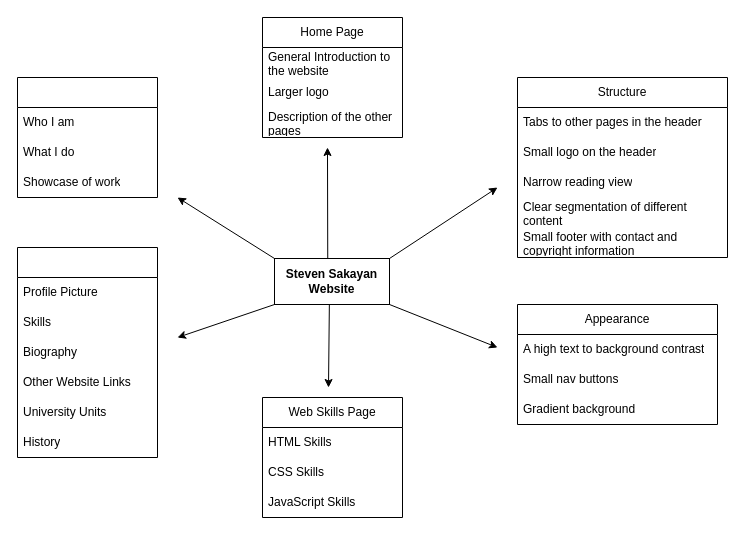
Image size: 745x535. Some labels were removed from this diagram. The box of each missing label's shape, as (x1, y1, x2, y2) in pixels:
About Page: (16, 76, 158, 198)
Resume Page: (16, 246, 158, 458)
